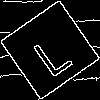L: (25, 25, 74, 79)
